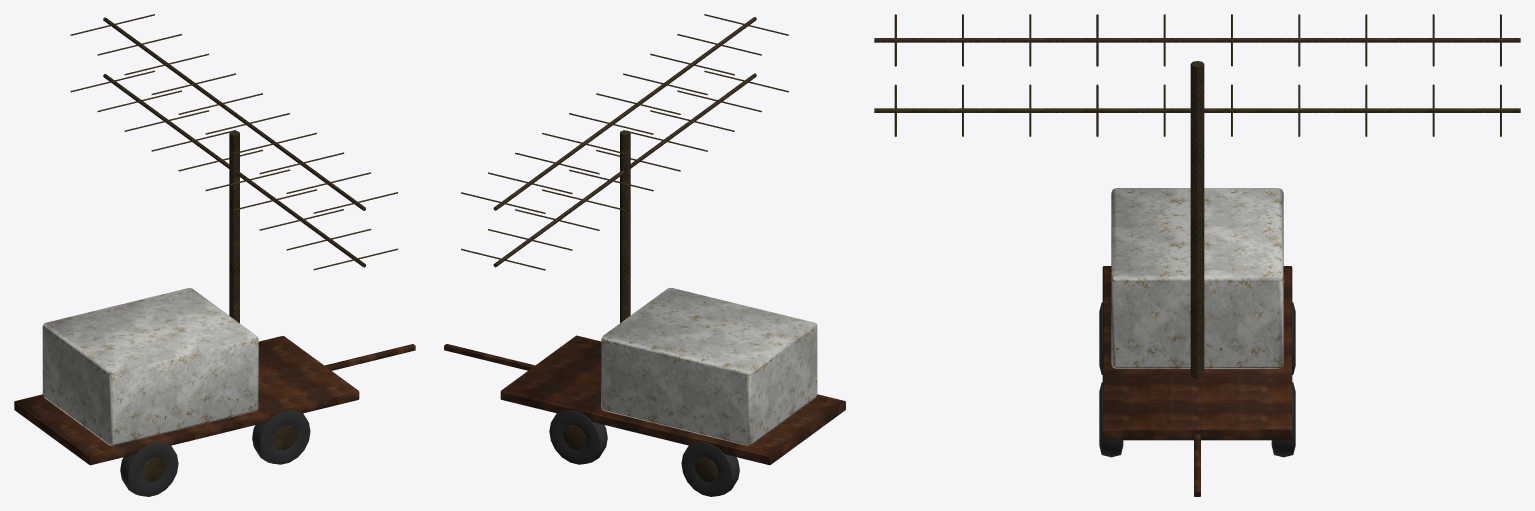
Rendered from veh_radar.gltf.
3 renders of one model, left to right at view 1: azimuth 30°, elevation 25°; view 2: azimuth 150°, elevation 25°; view 3: azimuth 270°, elevation 25°, orthographic. The views are drawn at different scales.
Visible parts, largest first — view 1: box.001, box, cyl.004, torus, torus.002, cyl.016, cyl.005, box.002, cyl.002, cyl; view 2: box.001, box, cyl.004, torus.001, torus.003, cyl.016, cyl.005, box.002, cyl.003, cyl.001; view 3: box.001, box, cyl.004, cyl.016, cyl.005.
Part boxes in pixels (left/top/right/bottom): box.001: left=42, top=288, right=258, bottom=445; box: left=14, top=336, right=359, bottom=465; cyl.004: left=229, top=130, right=239, bottom=323; torus: left=252, top=410, right=310, bottom=464; torus.002: left=120, top=442, right=178, bottom=496; cyl.016: left=103, top=17, right=365, bottom=210; cyl.005: left=103, top=74, right=365, bottom=267; box.002: left=324, top=344, right=415, bottom=370; cyl.002: left=141, top=457, right=164, bottom=482; cyl: left=273, top=425, right=296, bottom=450; box.001: left=601, top=288, right=817, bottom=445; box: left=500, top=335, right=845, bottom=465; cyl.004: left=620, top=130, right=630, bottom=322; torus.001: left=549, top=410, right=607, bottom=464; torus.003: left=681, top=442, right=739, bottom=496; cyl.016: left=493, top=17, right=756, bottom=210; cyl.005: left=493, top=73, right=756, bottom=267; box.002: left=444, top=344, right=534, bottom=370; cyl.003: left=695, top=457, right=718, bottom=482; cyl.001: left=563, top=425, right=586, bottom=450; box.001: left=1111, top=188, right=1283, bottom=368; box: left=1102, top=266, right=1292, bottom=440; cyl.004: left=1190, top=61, right=1204, bottom=379; cyl.016: left=874, top=38, right=1520, bottom=42; cyl.005: left=874, top=108, right=1520, bottom=112.
Bounding box in the file's own units: 6.05 × 5.22 × 7.5.
Materials: 4 (3 with a texture image).
